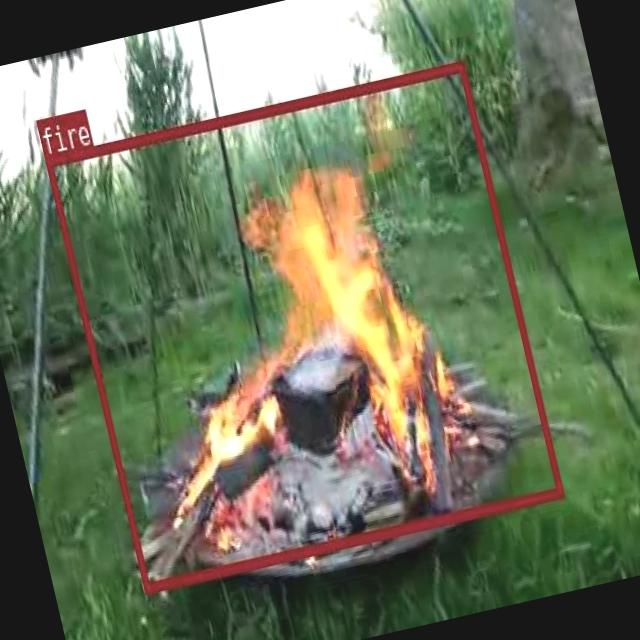fire: (44, 59, 564, 592)
